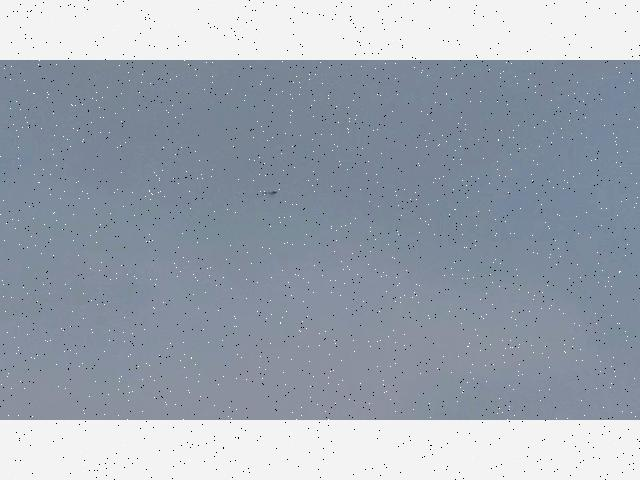Anti-Drone: (260, 190, 280, 199)
